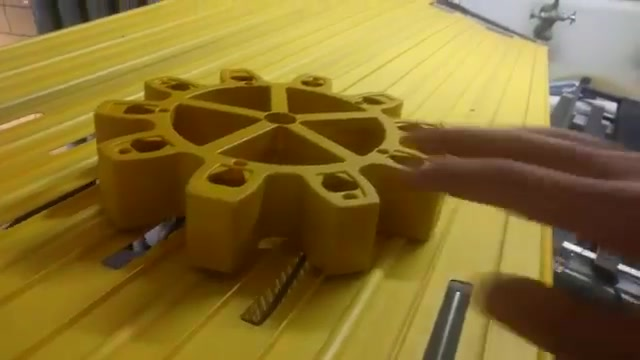gear: (81, 43, 469, 288)
